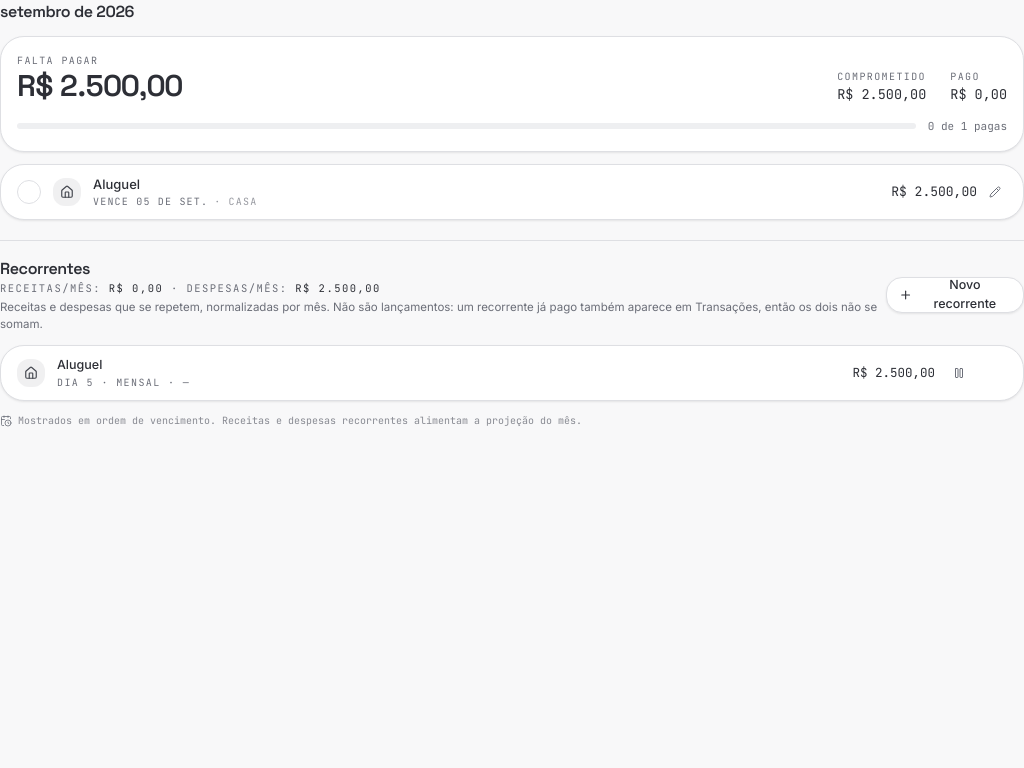
Test: recurring form · success closes, and only then › closes on a successful create and refreshes
Expected: the text "Falta pagar" is shown, [17,54,98,67]
Click the button "Novo recorrente" at [955, 295], box [886,277,1023,313]
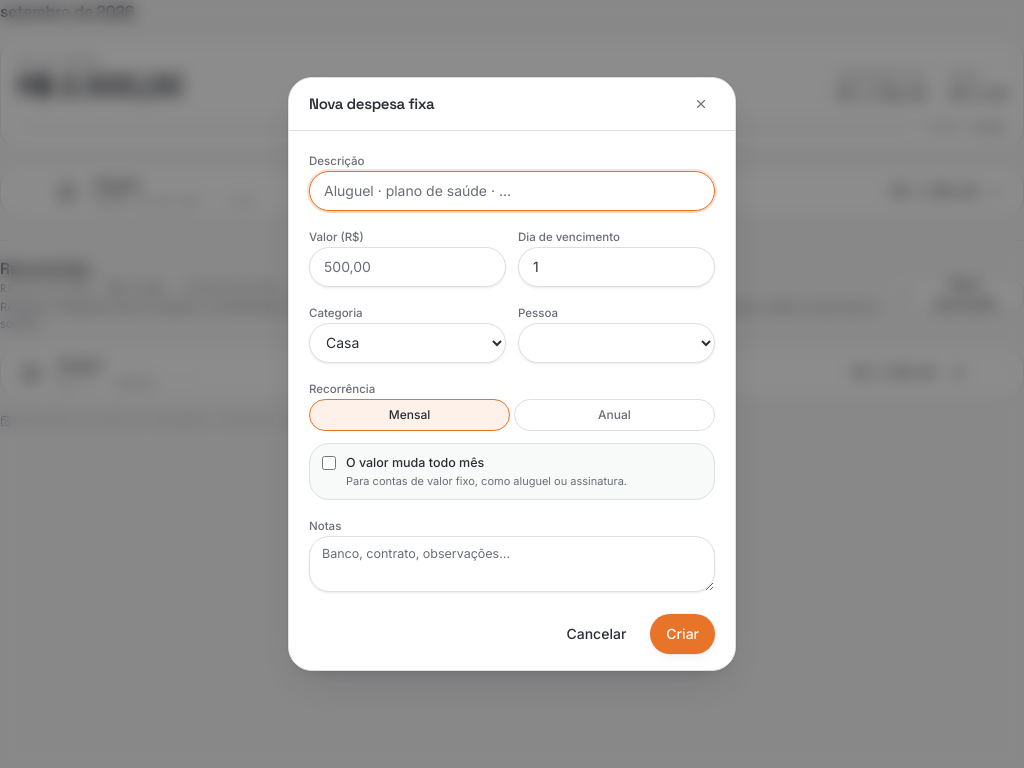
Now the dialog is shown, box [288,77,736,671]
Type "BETA teste" into the field with placeholder "Aluguel · plano de saúde · …" at [512, 191], box [309,171,715,211]
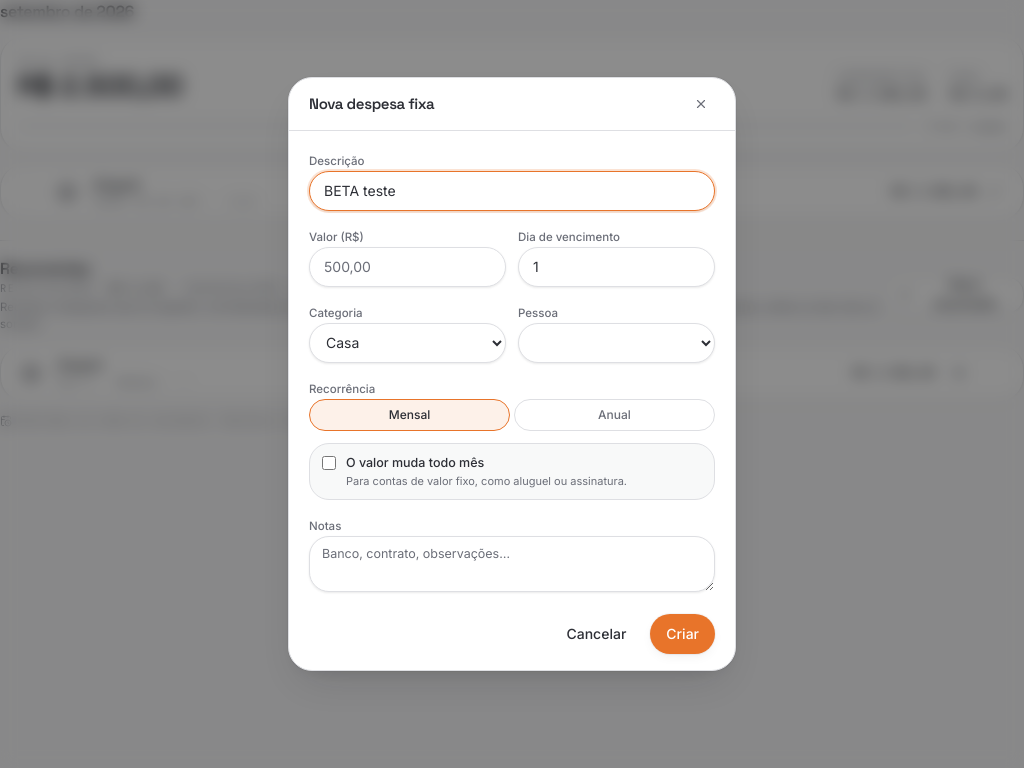
Type "10,00" into the field with placeholder "500,00" at [408, 267], box [309,247,506,287]
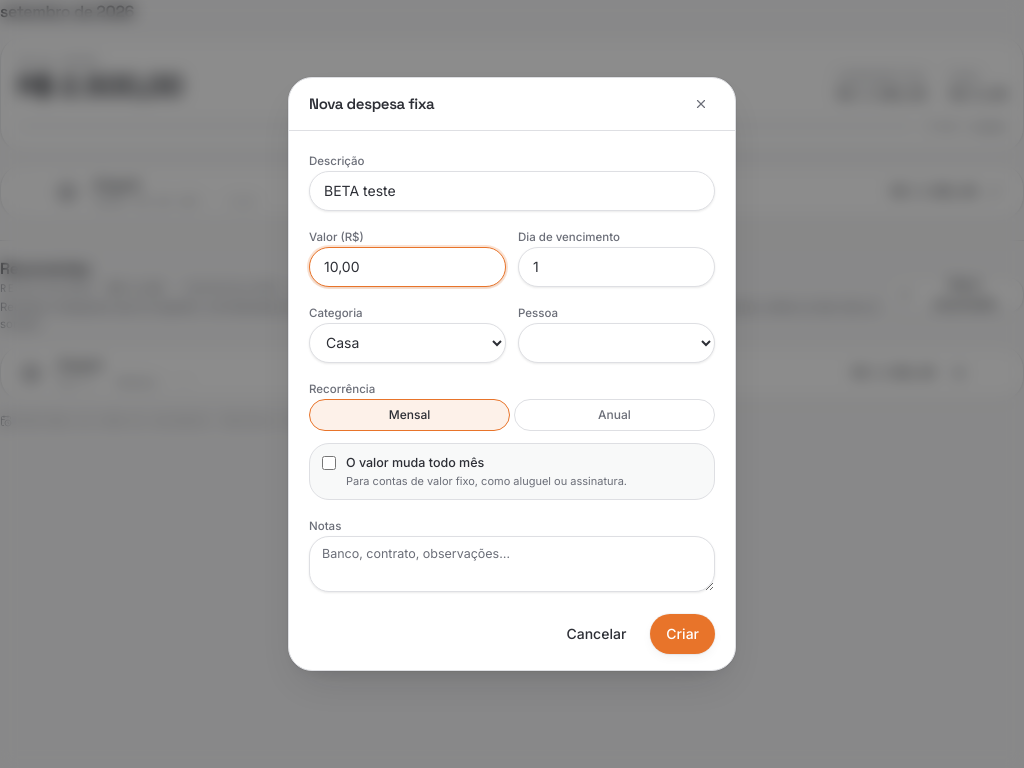
Click the button "Criar" at [683, 634], box [650,614,715,654]
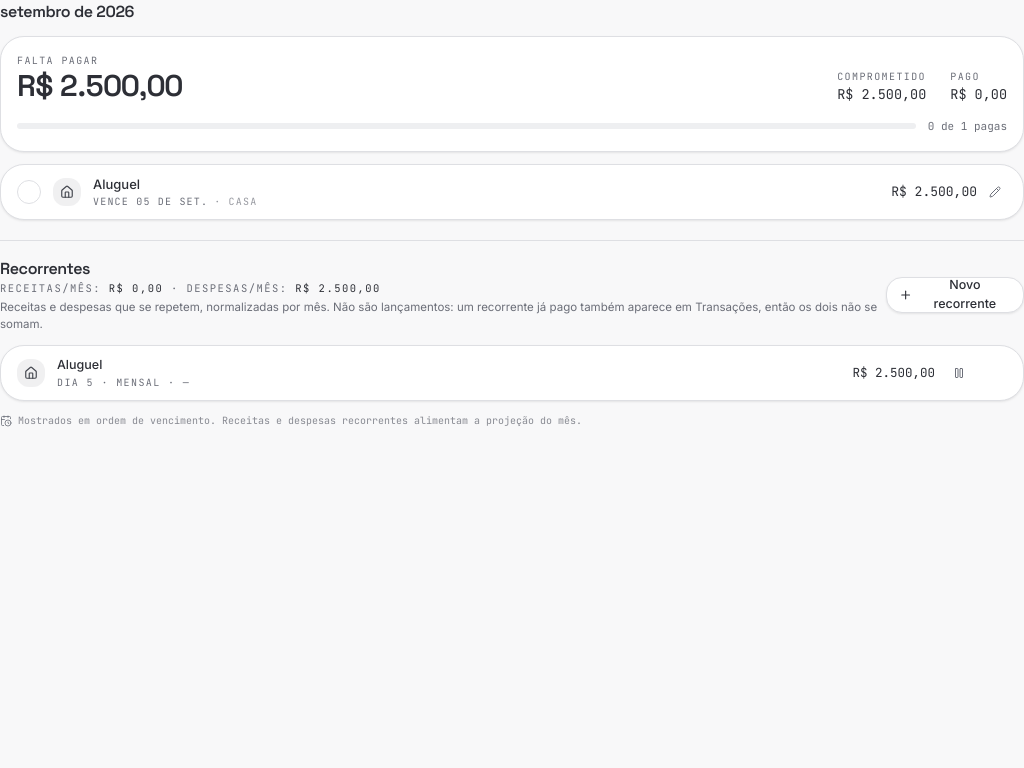
Now the dialog is gone
